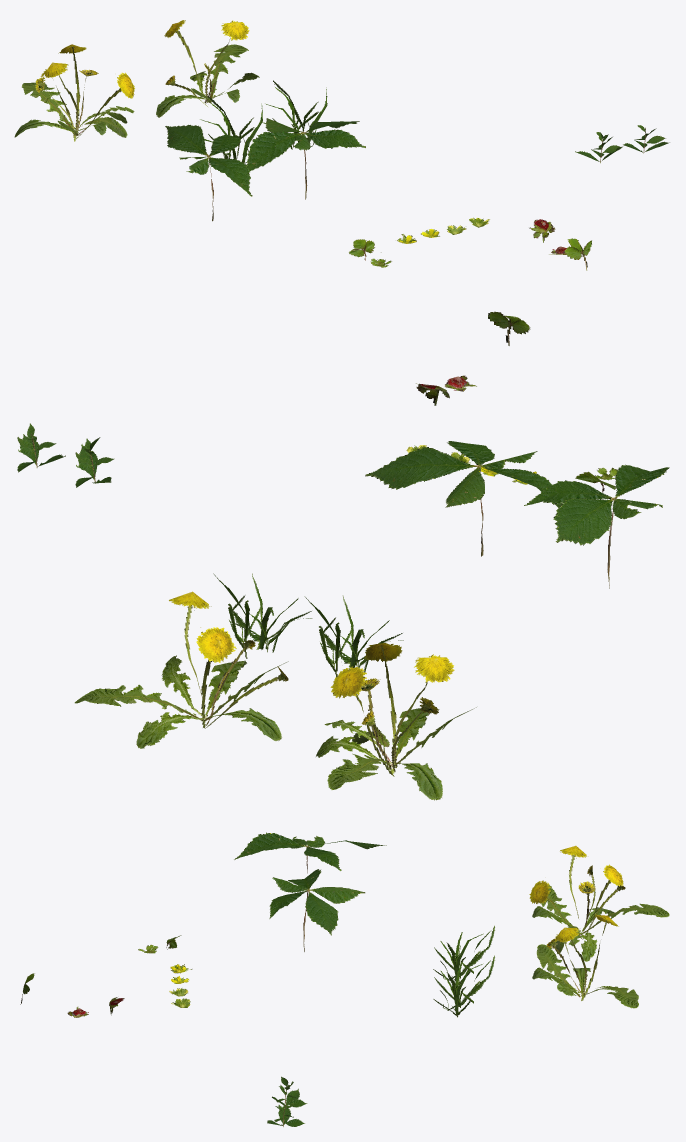
The model's file is grass_plants.glb.
3 views of the same model, one above another, from view 1: azimuth 30°, elevation 25°; view 2: azimuth 150°, elevation 25°; view 3: azimuth 270°, elevation 25° (orthographic). The views are drawn at different scales.
Parts seen in each view (by area): view 1: Object_3, Object_7, Object_6, Object_5; view 2: Object_7, Object_3, Object_5, Object_6; view 3: Object_7, Object_3, Object_5, Object_6.
Part boxes in pixels (bbox=[...]): Object_3: bbox=[165, 118, 669, 221]; Object_7: bbox=[14, 20, 259, 141]; Object_6: bbox=[349, 217, 591, 270]; Object_5: bbox=[200, 80, 327, 163]; Object_7: bbox=[74, 591, 476, 800]; Object_3: bbox=[17, 423, 669, 588]; Object_5: bbox=[213, 573, 403, 677]; Object_6: bbox=[406, 311, 617, 492]; Object_7: bbox=[529, 845, 669, 1008]; Object_3: bbox=[234, 832, 386, 1126]; Object_5: bbox=[433, 925, 494, 1017]; Object_6: bbox=[20, 935, 192, 1017].
Bounding box in the file's own units: 3.85 × 0.8316 × 4.86.
Materials: 4 (4 with a texture image).
